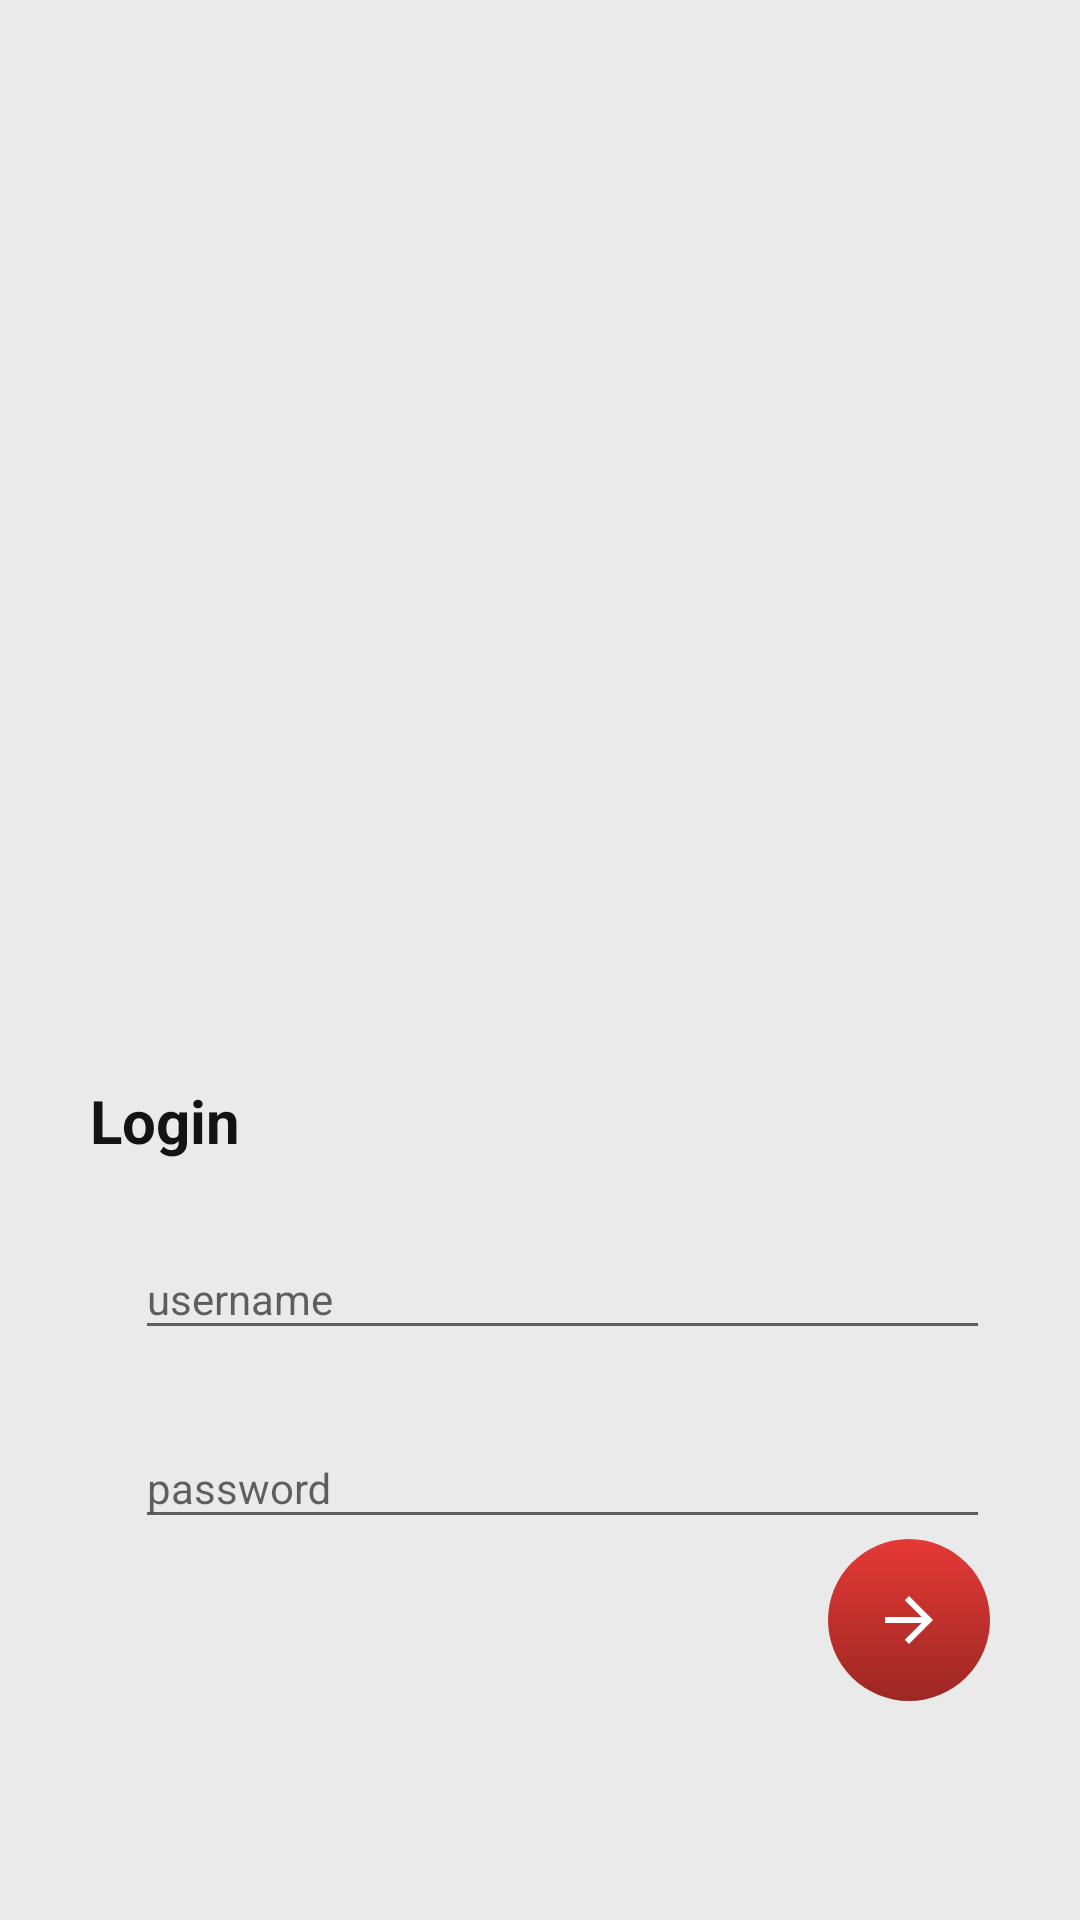

Named icons in this screenshot (1080×1920) and their centers, (x=x, y=y):
login: (x=909, y=1620)
